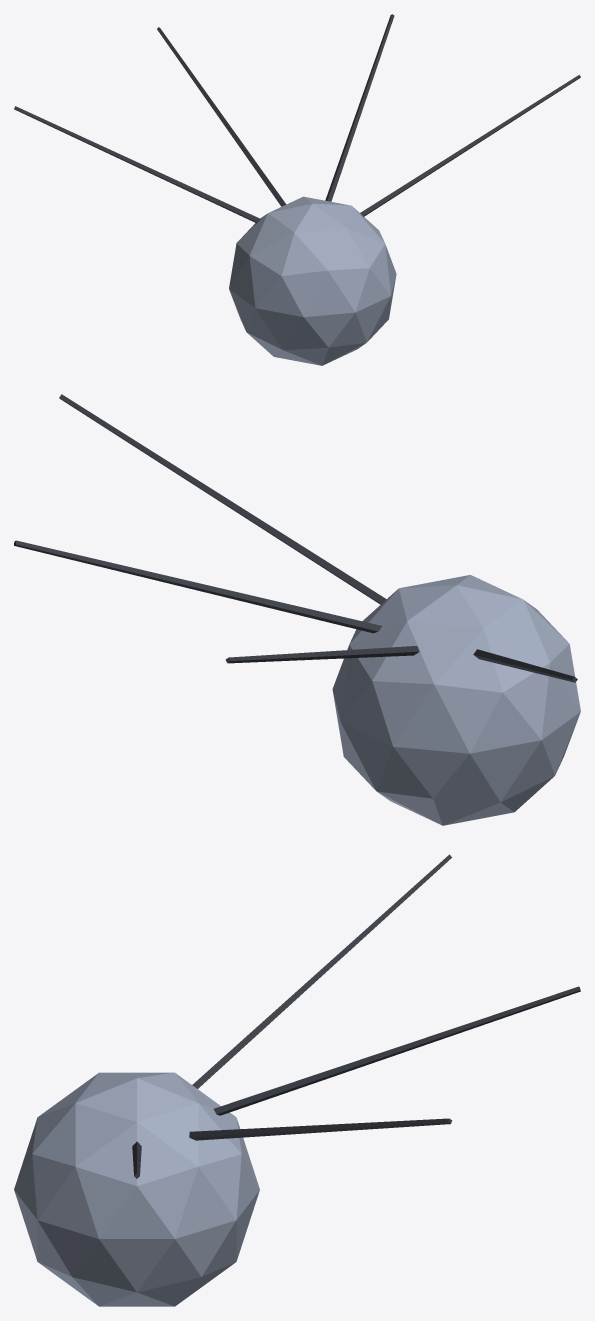
File: lowpoly-sputnik.glb
The picture shows the model from 3 angles, top to bottom: view 1: azimuth 30°, elevation 25°; view 2: azimuth 150°, elevation 25°; view 3: azimuth 270°, elevation 25°; orthographic projection. The views are drawn at different scales.
Visible parts, largest first — view 1: sputnik; view 2: sputnik; view 3: sputnik.
Part boxes in pixels (x1,y1,x2,y2): sputnik: (14, 14, 580, 365); sputnik: (14, 394, 580, 825); sputnik: (14, 854, 580, 1306).
Bounding box in the file's own units: 3.09 × 1.41 × 2.3.
